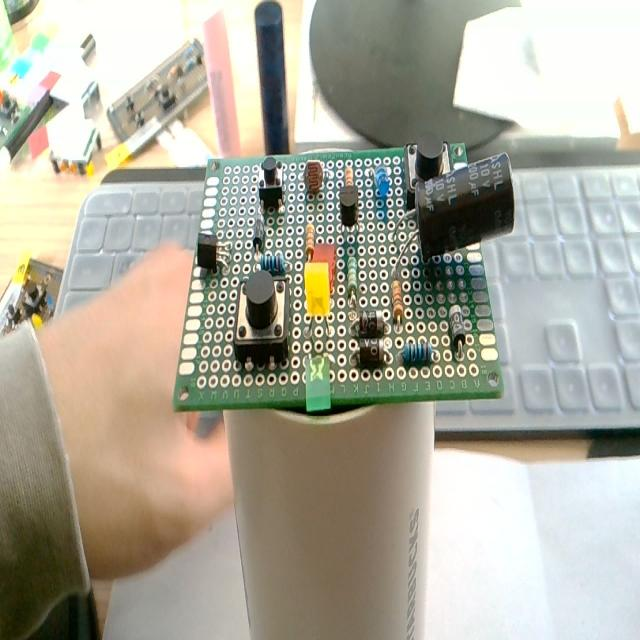Electrolytic capacitor: (393, 149, 517, 273)
cds: (302, 151, 328, 197)
diode: (351, 302, 389, 338), (446, 296, 466, 360), (349, 337, 388, 367), (250, 212, 266, 260)
led: (297, 260, 333, 336), (301, 338, 335, 416), (367, 144, 399, 209)
resistor: (396, 338, 432, 369), (299, 212, 317, 266), (344, 250, 358, 309), (255, 248, 287, 271), (389, 277, 403, 328)
switch: (233, 270, 290, 367), (257, 155, 289, 213)
transistor: (198, 228, 238, 274), (336, 185, 365, 243)
